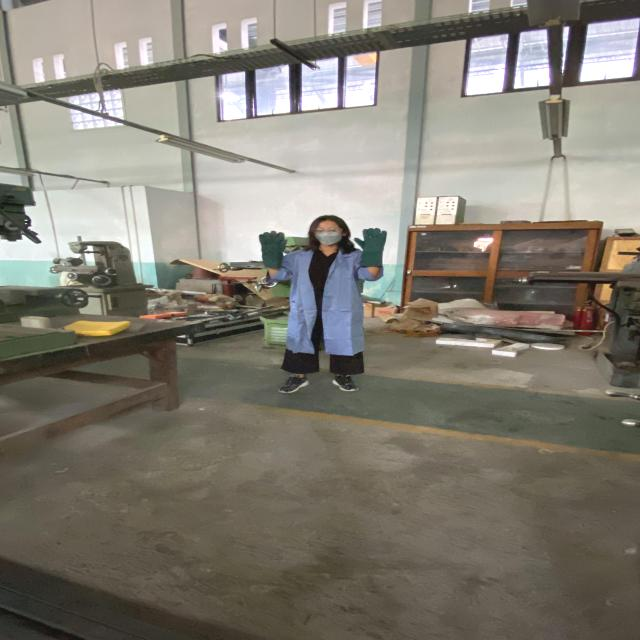face_mask: (312, 225, 344, 244)
glasses: (312, 226, 344, 234)
hand_glove: (349, 227, 391, 253), (256, 229, 292, 257)
head_nohelmet: (308, 214, 348, 227)
person: (253, 213, 392, 399)
shoes: (276, 374, 311, 397), (326, 372, 359, 392)
